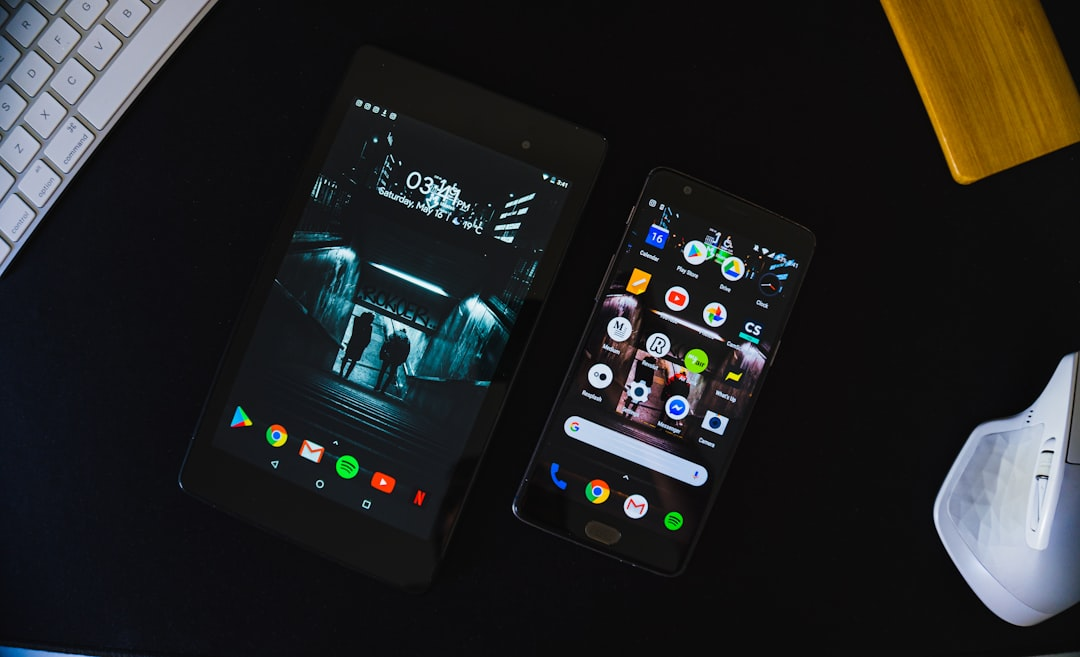phone: (176, 41, 606, 597), (509, 161, 819, 582)
